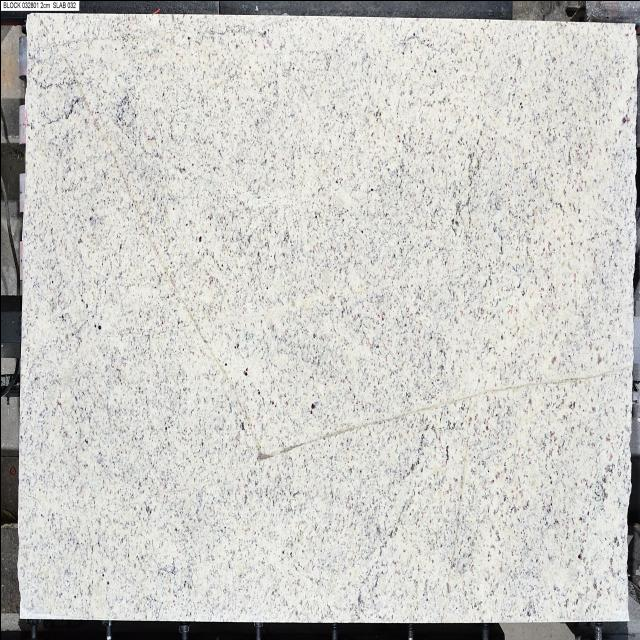chapa: (18, 13, 635, 622)
